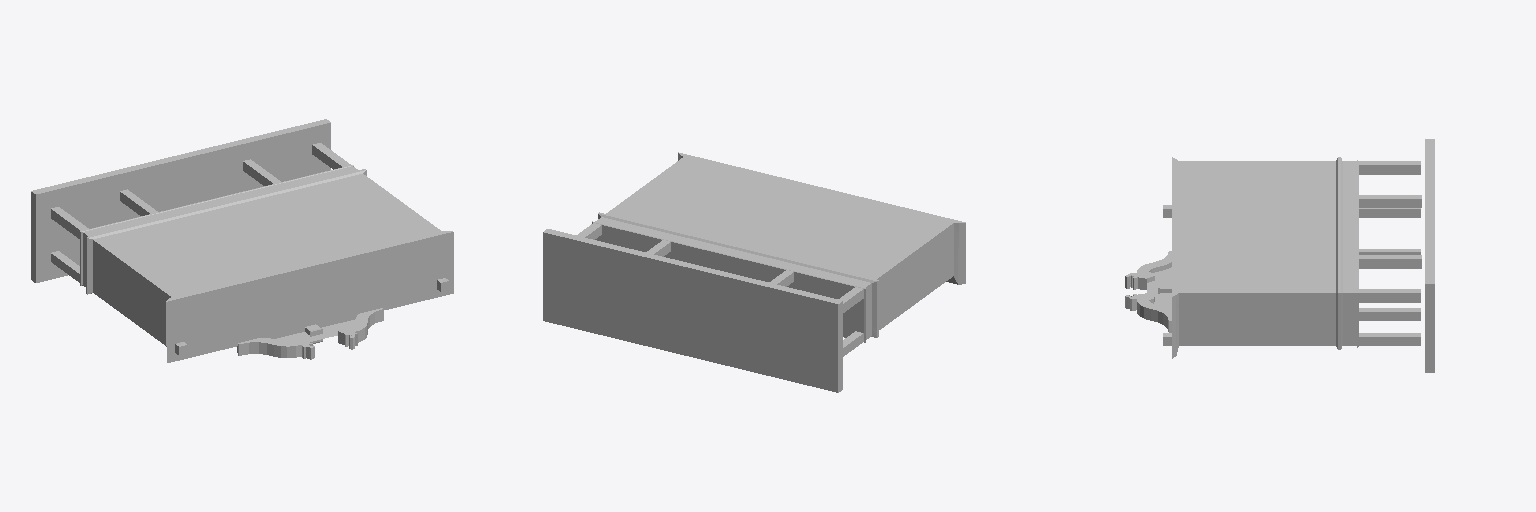
File: markup.obj
3 views of the same model, side by side, from view 1: azimuth 30°, elevation 25°; view 2: azimuth 150°, elevation 25°; view 3: azimuth 270°, elevation 25° (orthographic).
Bounding box in the file's own units: 26.26 × 7.53 × 23.81.